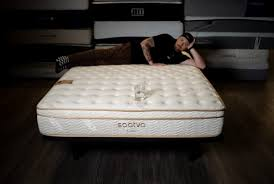bed-matress: (35, 54, 227, 139)
